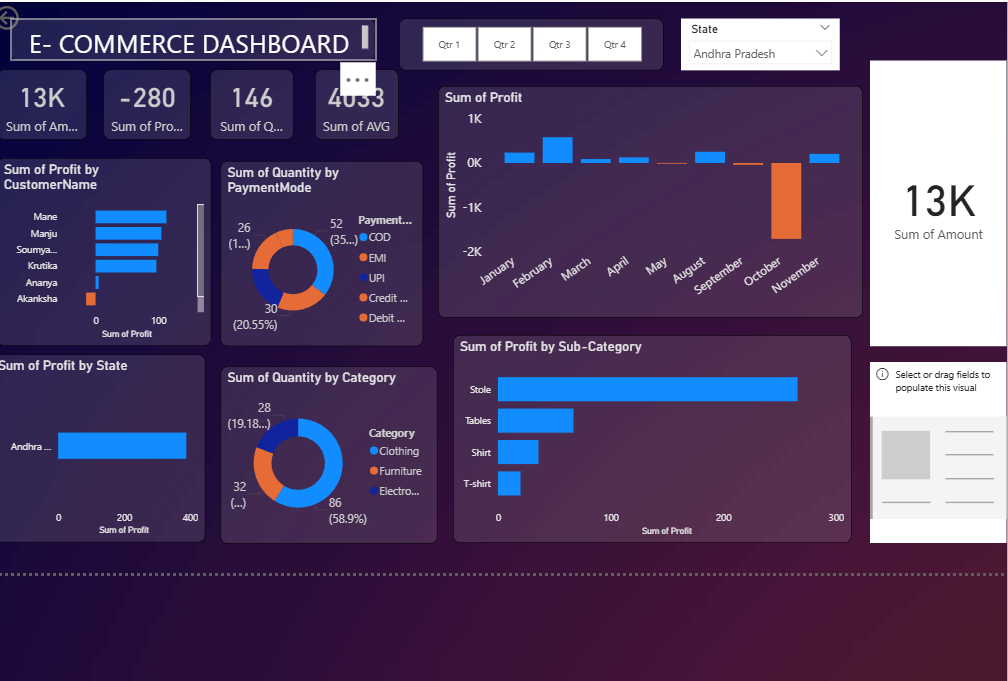

Layout of this report page (visuals, bound fields, positions):
{"tool":"powerbi","page":{"name":"Page 1","canvas":[1280,720],"ordinal":0},"visuals":[{"type":"columnChart","title":"Sum of Profit","fields":{"Category":["Orders.Order Date.Variation.Date Hierarchy.Month"],"Y":["Details.Profit"]},"box":[563.3,106.7,535,291.7],"z":0},{"type":"barChart","fields":{"Category":["Details.Sub-Category"],"Y":["Details.Profit"]},"box":[581.7,420,501.7,261.7],"z":1000},{"type":"donutChart","fields":{"Category":["Details.Category"],"Y":["Details.Quantity"]},"box":[290,458.3,273.3,223.3],"z":2000},{"type":"donutChart","fields":{"Y":["Details.Quantity"],"Category":["Details.PaymentMode"]},"box":[290,200,255,233.3],"z":3000},{"type":"card","fields":{"Values":["Details.Amount"]},"box":[1108,73,172,360],"z":4000},{"type":"card","box":[1108,453,172,228],"z":5000},{"type":"card","fields":{"Values":["Details.Amount"]},"box":[6.7,85,113.3,88.3],"z":6000},{"type":"card","fields":{"Values":["Details.Profit"]},"box":[141.7,85,110,88.3],"z":7000},{"type":"card","fields":{"Values":["Details.Quantity"]},"box":[276.7,85,105,88.3],"z":8000},{"type":"card","fields":{"Values":["Details.AVG"]},"box":[408.3,85,105,88.3],"z":9000},{"type":"barChart","fields":{"Category":["Orders.State"],"Y":["Details.Profit"]},"box":[0,445,270,236.7],"z":10000},{"type":"barChart","fields":{"Category":["Orders.CustomerName"],"Y":["Details.Profit"]},"box":[6.7,196.7,270,236.7],"z":11000},{"type":"slicer","fields":{"Values":["Orders.Order Date.Variation.Date Hierarchy.Quarter"]},"box":[513.3,20,333.3,65],"z":12000},{"type":"actionButton","box":[0,0,100,40],"z":13000},{"type":"slicer","fields":{"Values":["Orders.State"]},"box":[870,20,200,65],"z":14000},{"type":"textbox","box":[25,20,460,53.3],"z":14001}]}

Visuals, with their boxes in screenshot pixels (x1, y1, x2, y2):
"Sum of Profit" columnChart: crop(445, 67, 861, 294)
barChart - Details.Sub-Category x Details.Profit: crop(460, 310, 849, 514)
donutChart - Details.Category x Details.Quantity: crop(233, 340, 445, 514)
donutChart - Details.Quantity x Details.PaymentMode: crop(233, 140, 431, 321)
card - Details.Amount: crop(868, 41, 1002, 321)
card: crop(868, 336, 1002, 513)
card - Details.Amount: crop(13, 50, 101, 119)
card - Details.Profit: crop(118, 50, 203, 119)
card - Details.Quantity: crop(223, 50, 304, 119)
card - Details.AVG: crop(325, 50, 407, 119)
barChart - Orders.State x Details.Profit: crop(8, 330, 218, 514)
barChart - Orders.CustomerName x Details.Profit: crop(13, 137, 223, 321)
slicer - Orders.Order Date.Variation.Date Hierarchy.Quarter: crop(407, 0, 665, 50)
actionButton: crop(8, 0, 86, 15)
slicer - Orders.State: crop(684, 0, 839, 50)
textbox: crop(27, 0, 385, 41)
